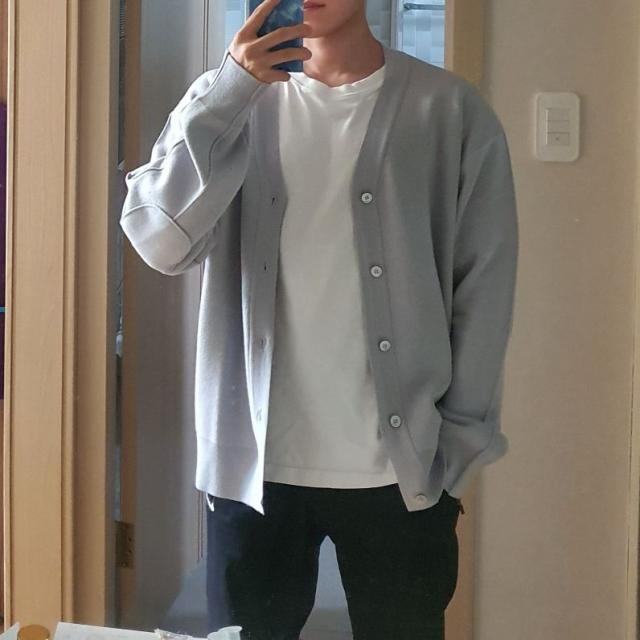cardigan: (121, 36, 520, 516)
trainingpants: (208, 466, 467, 640)
